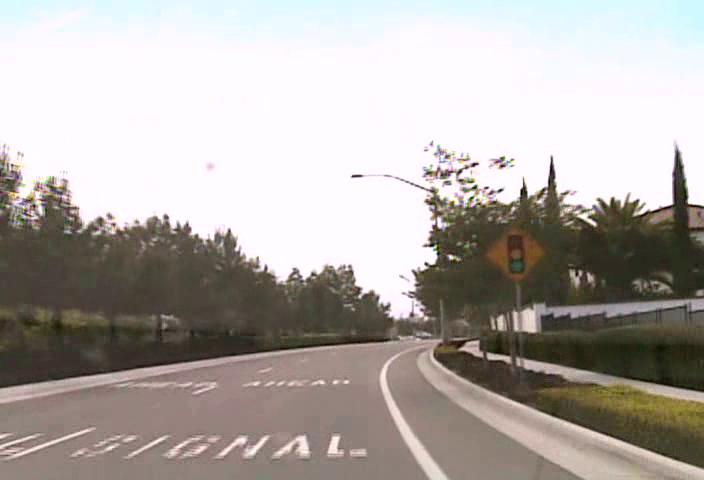signalAhead: (485, 222, 545, 282)
